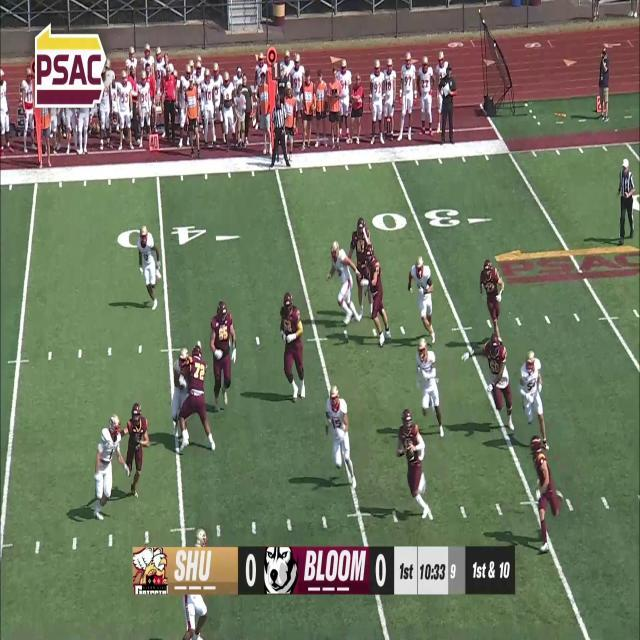football: (406, 444, 416, 462)
